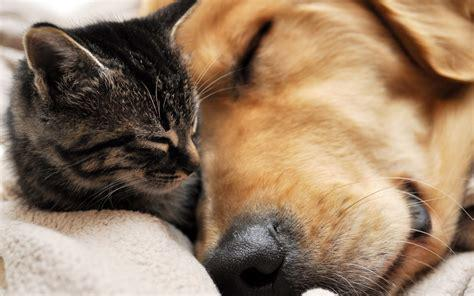cat: (8, 2, 200, 222)
dog: (144, 1, 473, 296)
